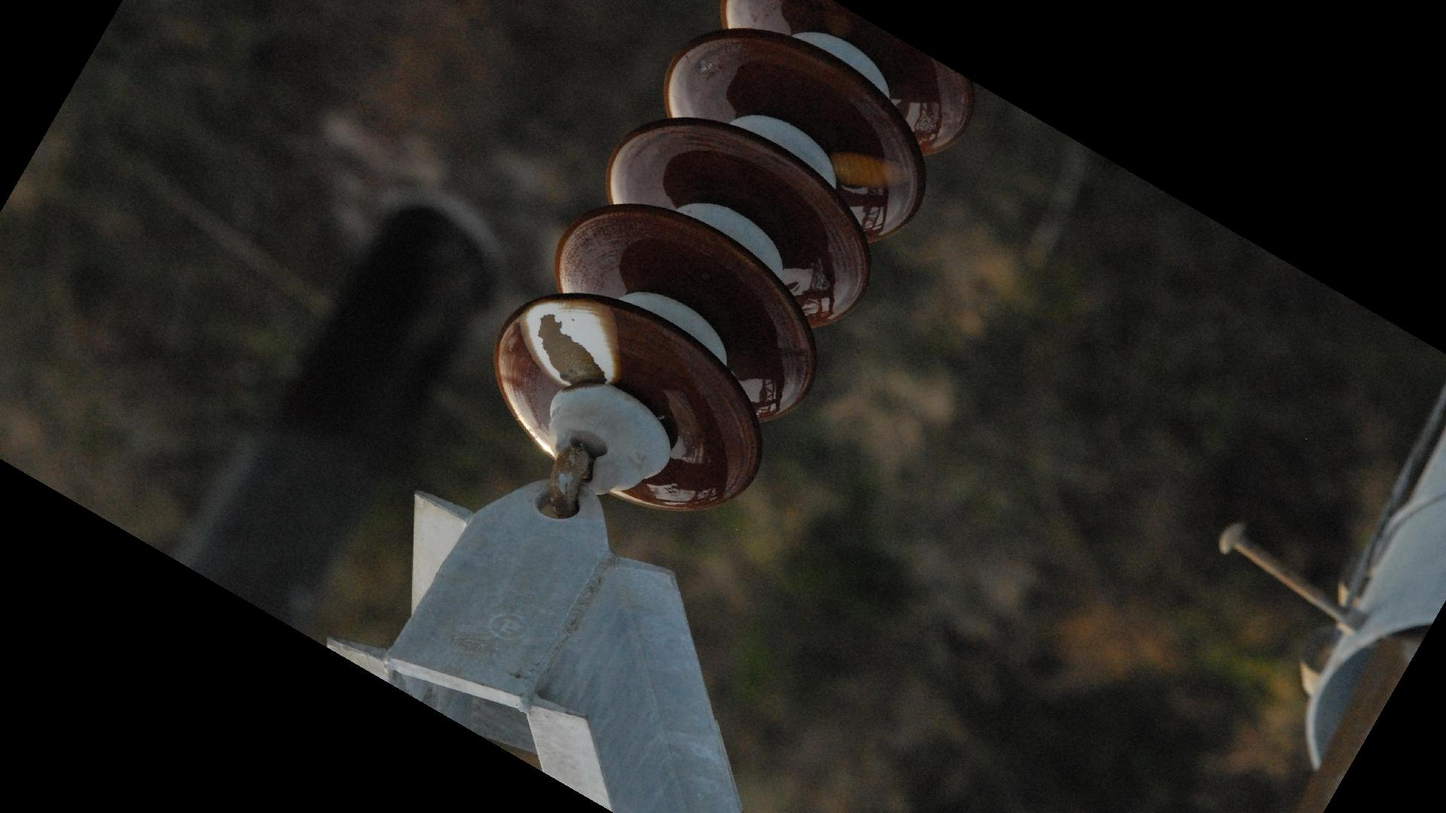insulator: (489, 1, 978, 519)
insulator_flashover: (517, 295, 623, 391), (824, 147, 915, 193)
